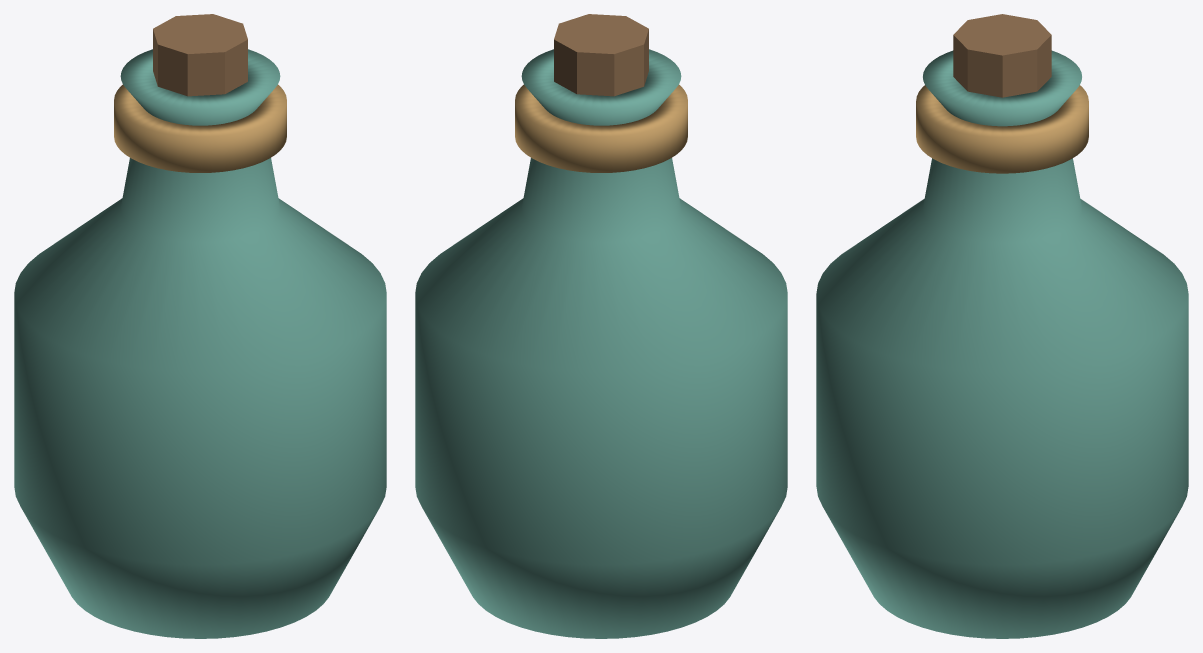
File: fantasy-bathhouse-and-thermal-sanctuary-fantasy-bathho-4e53df97__29469.glb
3 views of the same model, side by side, from view 1: azimuth 30°, elevation 25°; view 2: azimuth 150°, elevation 25°; view 3: azimuth 270°, elevation 25° (orthographic).
Parts seen in each view (by area): view 1: fantasy-bathhouse-and-thermal-sanctuary-oil-flask; view 2: fantasy-bathhouse-and-thermal-sanctuary-oil-flask; view 3: fantasy-bathhouse-and-thermal-sanctuary-oil-flask.
Boxes of the visible parts, bbox=[...] form: fantasy-bathhouse-and-thermal-sanctuary-oil-flask: bbox=[14, 14, 386, 638]; fantasy-bathhouse-and-thermal-sanctuary-oil-flask: bbox=[415, 14, 787, 638]; fantasy-bathhouse-and-thermal-sanctuary-oil-flask: bbox=[816, 14, 1188, 638].
Size of the model in its own units: 0.28 by 0.455 by 0.28.
